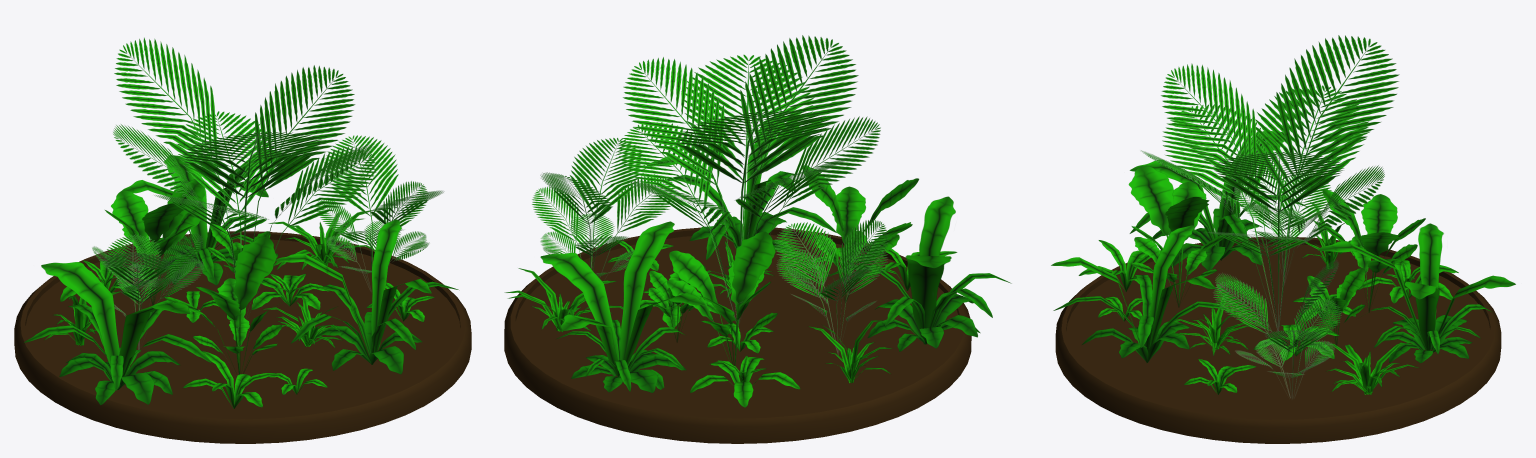
Rendered from plants.glb.
3 renders of one model, left to right at view 1: azimuth 30°, elevation 25°; view 2: azimuth 150°, elevation 25°; view 3: azimuth 270°, elevation 25°, orthographic. The views are drawn at different scales.
Visible parts, largest first — view 1: pCylinder1, Plant_04, Plant_01, Plant_02, Plant_05, Plant_15, Plant_14, Plant_03, Plant_06, Plant_07, Plant_18, Plant_16 (+6 smaller); view 2: pCylinder1, Plant_04, Plant_03, Plant_05, Plant_01, Plant_15, Plant_06, Plant_02, Plant_14, Plant_12, Plant_07, Plant_09 (+4 smaller); view 3: pCylinder1, Plant_04, Plant_03, Plant_05, Plant_02, Plant_14, Plant_01, Plant_06, Plant_15, Plant_13, Plant_07, Plant_08 (+6 smaller).
Part boxes in pixels (x1=…): pCylinder1: x1=14, y1=231, x2=471, y2=443; Plant_04: x1=113, y1=37, x2=376, y2=319; Plant_01: x1=24, y1=262, x2=211, y2=405; Plant_02: x1=275, y1=219, x2=458, y2=374; Plant_05: x1=317, y1=135, x2=444, y2=291; Plant_15: x1=92, y1=233, x2=203, y2=349; Plant_14: x1=164, y1=236, x2=281, y2=374; Plant_03: x1=122, y1=150, x2=290, y2=285; Plant_06: x1=105, y1=178, x2=204, y2=305; Plant_07: x1=268, y1=210, x2=372, y2=270; Plant_18: x1=183, y1=351, x2=276, y2=408; Plant_16: x1=251, y1=274, x2=329, y2=309; pCylinder1: x1=504, y1=226, x2=971, y2=443; Plant_04: x1=617, y1=35, x2=880, y2=325; Plant_03: x1=540, y1=221, x2=704, y2=392; Plant_05: x1=531, y1=137, x2=676, y2=277; Plant_01: x1=827, y1=196, x2=1011, y2=351; Plant_15: x1=775, y1=219, x2=888, y2=354; Plant_06: x1=667, y1=231, x2=777, y2=365; Plant_02: x1=646, y1=115, x2=836, y2=260; Plant_14: x1=802, y1=165, x2=918, y2=302; Plant_12: x1=690, y1=355, x2=800, y2=407; Plant_07: x1=504, y1=268, x2=623, y2=332; Plant_09: x1=808, y1=320, x2=892, y2=383; pCylinder1: x1=1055, y1=236, x2=1501, y2=443; Plant_04: x1=1141, y1=35, x2=1399, y2=331; Plant_03: x1=1317, y1=223, x2=1515, y2=363; Plant_05: x1=1213, y1=260, x2=1341, y2=398; Plant_02: x1=1051, y1=225, x2=1240, y2=362; Plant_14: x1=1128, y1=166, x2=1226, y2=307; Plant_01: x1=1129, y1=131, x2=1306, y2=270; Plant_06: x1=1318, y1=189, x2=1425, y2=312; Plant_15: x1=1234, y1=155, x2=1331, y2=284; Plant_13: x1=1301, y1=268, x2=1365, y2=345; Plant_07: x1=1322, y1=343, x2=1419, y2=394; Plant_08: x1=1167, y1=291, x2=1255, y2=355.
Size of the model in its own units: 3.14 by 1.94 by 3.04.
Materials: 7 (6 with a texture image).
